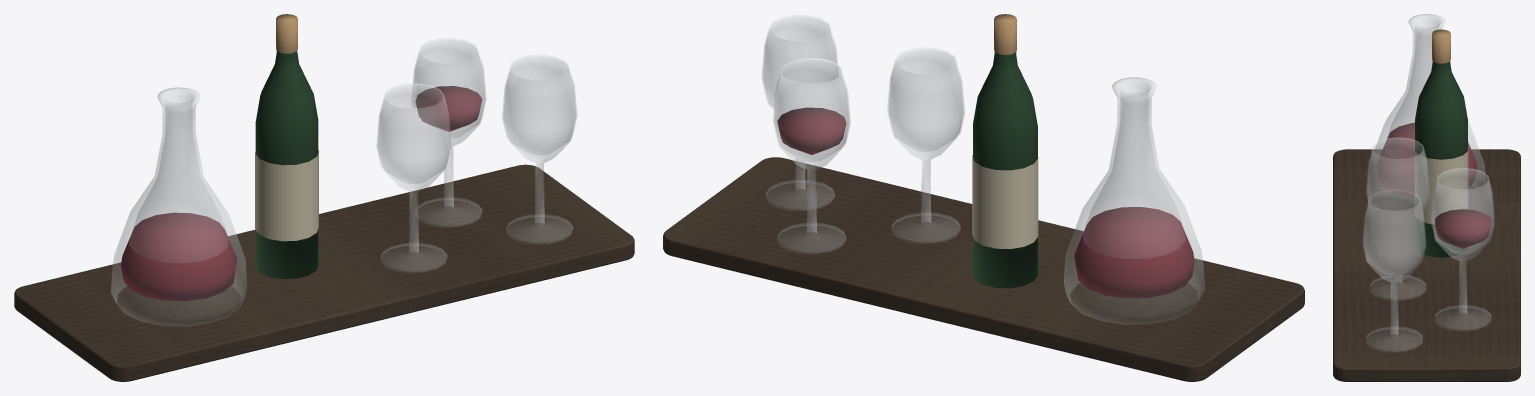
The model's file is dining_wine_set.gltf.
The picture shows the model from 3 angles, left to right: view 1: azimuth 30°, elevation 25°; view 2: azimuth 150°, elevation 25°; view 3: azimuth 270°, elevation 25°; orthographic projection. The views are drawn at different scales.
Visible parts, largest first — view 1: DiningWineSet_Board, DiningWineSet_Decanter_Glass_NoCollide, DiningWineSet_WineGlass03_Glass_NoCollide, DiningWineSet_WineGlass01_Glass_NoCollide, DiningWineSet_Decanter_Wine_NoCollide, DiningWineSet_Bottle_Bottle_NoCollide, DiningWineSet_WineGlass02_Glass_NoCollide, DiningWineSet_Bottle_Label_NoCollide, DiningWineSet_WineGlass02_Wine_NoCollide, DiningWineSet_Bottle_Foil_NoCollide; view 2: DiningWineSet_Board, DiningWineSet_Decanter_Glass_NoCollide, DiningWineSet_WineGlass01_Glass_NoCollide, DiningWineSet_WineGlass02_Glass_NoCollide, DiningWineSet_Decanter_Wine_NoCollide, DiningWineSet_Bottle_Bottle_NoCollide, DiningWineSet_WineGlass03_Glass_NoCollide, DiningWineSet_Bottle_Label_NoCollide, DiningWineSet_WineGlass02_Wine_NoCollide, DiningWineSet_Bottle_Foil_NoCollide; view 3: DiningWineSet_Board, DiningWineSet_WineGlass02_Glass_NoCollide, DiningWineSet_WineGlass03_Glass_NoCollide, DiningWineSet_Bottle_Bottle_NoCollide, DiningWineSet_WineGlass01_Glass_NoCollide, DiningWineSet_Decanter_Glass_NoCollide, DiningWineSet_Bottle_Label_NoCollide, DiningWineSet_Decanter_Wine_NoCollide, DiningWineSet_WineGlass02_Wine_NoCollide, DiningWineSet_Bottle_Foil_NoCollide.
Boxes of the visible parts, x1,y1,x2,y2 form: DiningWineSet_Board: (14, 164, 634, 381); DiningWineSet_Decanter_Glass_NoCollide: (111, 87, 246, 326); DiningWineSet_WineGlass03_Glass_NoCollide: (502, 55, 576, 244); DiningWineSet_WineGlass01_Glass_NoCollide: (376, 83, 451, 272); DiningWineSet_Decanter_Wine_NoCollide: (121, 212, 237, 301); DiningWineSet_Bottle_Bottle_NoCollide: (255, 51, 318, 278); DiningWineSet_WineGlass02_Glass_NoCollide: (411, 38, 486, 227); DiningWineSet_Bottle_Label_NoCollide: (255, 150, 318, 241); DiningWineSet_WineGlass02_Wine_NoCollide: (415, 86, 482, 131); DiningWineSet_Bottle_Foil_NoCollide: (276, 14, 297, 53); DiningWineSet_Board: (663, 157, 1304, 381); DiningWineSet_Decanter_Glass_NoCollide: (1064, 77, 1204, 324); DiningWineSet_WineGlass01_Glass_NoCollide: (887, 48, 964, 243); DiningWineSet_WineGlass02_Glass_NoCollide: (773, 58, 850, 253); DiningWineSet_Decanter_Wine_NoCollide: (1074, 207, 1194, 298); DiningWineSet_Bottle_Bottle_NoCollide: (973, 51, 1037, 288); DiningWineSet_WineGlass03_Glass_NoCollide: (761, 15, 838, 210); DiningWineSet_Bottle_Label_NoCollide: (972, 155, 1038, 249); DiningWineSet_WineGlass02_Wine_NoCollide: (777, 107, 846, 154); DiningWineSet_Bottle_Foil_NoCollide: (994, 14, 1016, 54); DiningWineSet_Board: (1333, 149, 1520, 381); DiningWineSet_WineGlass02_Glass_NoCollide: (1431, 168, 1494, 330); DiningWineSet_WineGlass03_Glass_NoCollide: (1363, 189, 1425, 352); DiningWineSet_Bottle_Bottle_NoCollide: (1415, 61, 1467, 257); DiningWineSet_WineGlass01_Glass_NoCollide: (1366, 137, 1429, 300); DiningWineSet_Decanter_Glass_NoCollide: (1374, 14, 1485, 187); DiningWineSet_Bottle_Label_NoCollide: (1414, 145, 1468, 224); DiningWineSet_Decanter_Wine_NoCollide: (1376, 122, 1477, 196); DiningWineSet_WineGlass02_Wine_NoCollide: (1435, 209, 1491, 248); DiningWineSet_Bottle_Foil_NoCollide: (1432, 29, 1450, 63).
Size of the model in its own units: 0.72 by 0.347 by 0.26.
6 materials, 1 textured.
